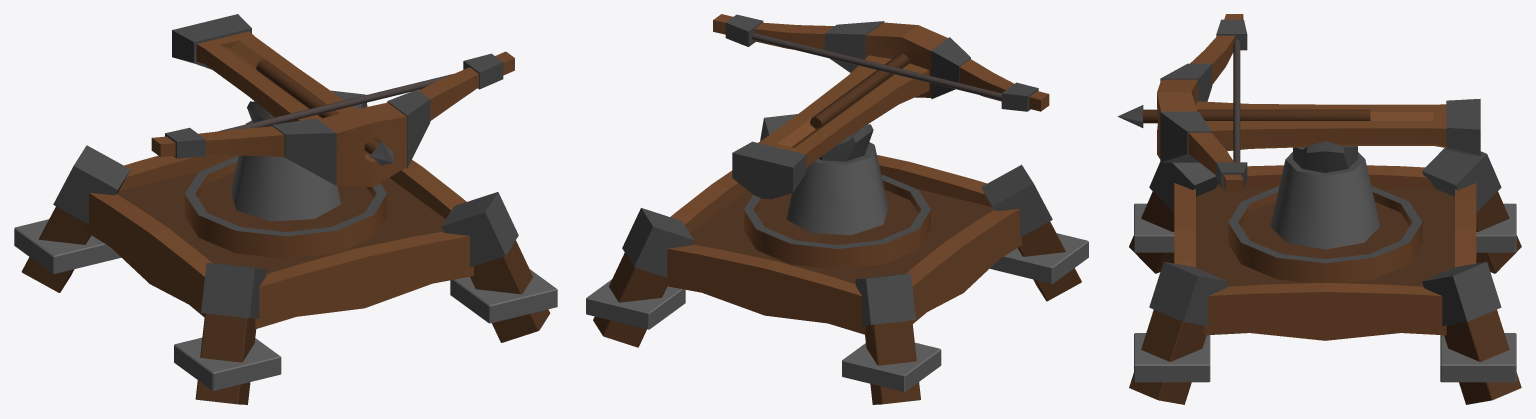
Rendered from Ballista_T2.fbx.
3 views of the same model, side by side, from view 1: azimuth 30°, elevation 25°; view 2: azimuth 150°, elevation 25°; view 3: azimuth 270°, elevation 25° (orthographic). The views are drawn at different scales.
Parts seen in each view (by area): view 1: PlatformBase.001, TowerFoot.001, TowerBase.001, BowBody.001, IronStrengthening.001, TowerRotator.001, BallistaBody.001, WoodEnd.001, ArrowString.001, ArrowBody.001; view 2: PlatformBase.001, TowerFoot.001, TowerBase.001, TowerRotator.001, BallistaBody.001, BowBody.001, IronStrengthening.001, WoodEnd.001, ArrowString.001, ArrowBody.001; view 3: TowerFoot.001, PlatformBase.001, TowerBase.001, TowerRotator.001, BallistaBody.001, BowBody.001, IronStrengthening.001, ArrowBody.001, WoodEnd.001, ArrowString.001.
Boxes of the visible parts, x1=… form: PlatformBase.001: x1=86, y1=154, x2=473, y2=329; TowerFoot.001: x1=14, y1=90, x2=557, y2=404; TowerBase.001: x1=185, y1=156, x2=386, y2=258; BowBody.001: x1=151, y1=51, x2=514, y2=187; IronStrengthening.001: x1=165, y1=53, x2=503, y2=185; TowerRotator.001: x1=231, y1=101, x2=340, y2=221; BallistaBody.001: x1=196, y1=31, x2=367, y2=155; WoodEnd.001: x1=172, y1=14, x2=251, y2=69; ArrowString.001: x1=217, y1=74, x2=452, y2=131; ArrowBody.001: x1=256, y1=60, x2=379, y2=154; PlatformBase.001: x1=663, y1=155, x2=1021, y2=334; TowerFoot.001: x1=586, y1=114, x2=1088, y2=404; TowerBase.001: x1=744, y1=175, x2=930, y2=269; TowerRotator.001: x1=786, y1=124, x2=888, y2=235; BallistaBody.001: x1=758, y1=55, x2=929, y2=168; BowBody.001: x1=713, y1=14, x2=1049, y2=111; IronStrengthening.001: x1=725, y1=14, x2=1038, y2=111; WoodEnd.001: x1=732, y1=141, x2=805, y2=199; ArrowString.001: x1=752, y1=33, x2=1001, y2=100; ArrowBody.001: x1=810, y1=52, x2=908, y2=128; TowerFoot.001: x1=1129, y1=148, x2=1521, y2=404; PlatformBase.001: x1=1174, y1=165, x2=1476, y2=340; TowerBase.001: x1=1228, y1=186, x2=1422, y2=283; TowerRotator.001: x1=1270, y1=141, x2=1380, y2=249; BallistaBody.001: x1=1195, y1=101, x2=1446, y2=151; BowBody.001: x1=1157, y1=14, x2=1243, y2=192; IronStrengthening.001: x1=1160, y1=19, x2=1247, y2=188; ArrowBody.001: x1=1142, y1=109, x2=1370, y2=123; WoodEnd.001: x1=1446, y1=98, x2=1480, y2=156; ArrowString.001: x1=1233, y1=39, x2=1240, y2=162.
Bounding box in the file's own units: 182 × 123 × 187.
